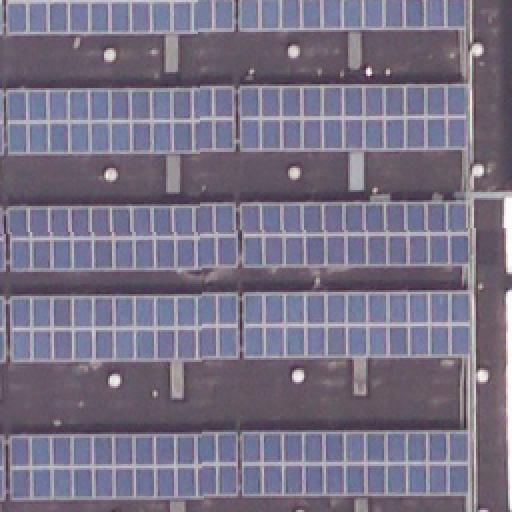solar-panel: (242, 289, 474, 359), (5, 85, 235, 155), (6, 202, 238, 270), (10, 432, 238, 500), (9, 295, 239, 361), (240, 430, 476, 494), (239, 200, 473, 264), (240, 86, 472, 150), (8, 0, 236, 32), (242, 1, 470, 31), (1, 298, 7, 362), (0, 91, 4, 157), (0, 436, 4, 500), (0, 211, 4, 269)
